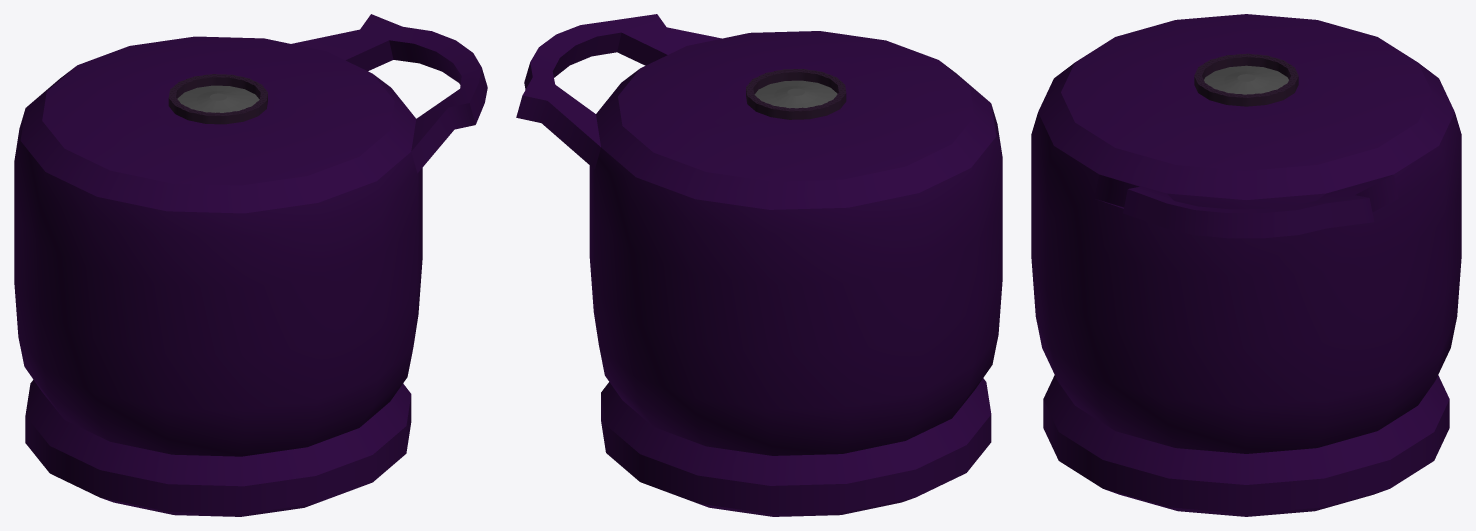
The model's file is gas15.glb.
3 views of the same model, side by side, from view 1: azimuth 30°, elevation 25°; view 2: azimuth 150°, elevation 25°; view 3: azimuth 270°, elevation 25° (orthographic). The views are drawn at different scales.
Visible parts, largest first — view 1: Gas15; view 2: Gas15; view 3: Gas15.
Part boxes in pixels (x1,y1,x2,y2): Gas15: (14, 14, 487, 516); Gas15: (516, 14, 1002, 516); Gas15: (1031, 14, 1461, 516).
Bounding box in the file's own units: 2.38 × 1.85 × 1.97.
